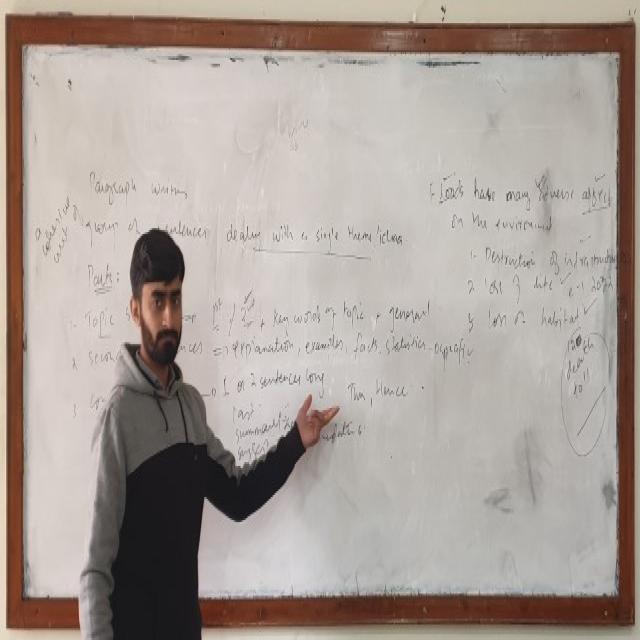Instructor: (90, 224, 216, 640)
White-board: (15, 27, 631, 616)
